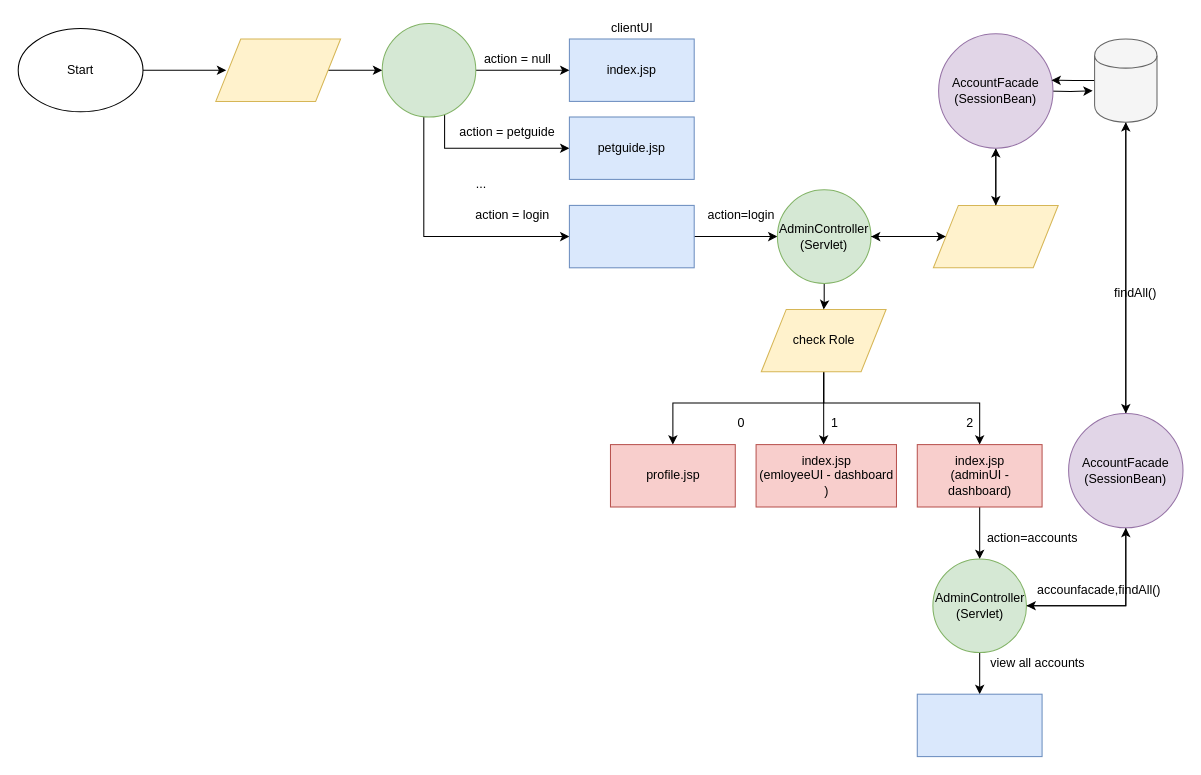
This 1201x775 diagram has some shape labels left out. Each missing label, with the box of its shape:
?action: (215, 38, 341, 101)
account.jsp: (916, 693, 1042, 757)
checkLogin(): (932, 204, 1058, 268)
Database: (1094, 38, 1157, 122)
login.jsp: (568, 204, 694, 268)
UserController (Servlet): (381, 22, 476, 117)
